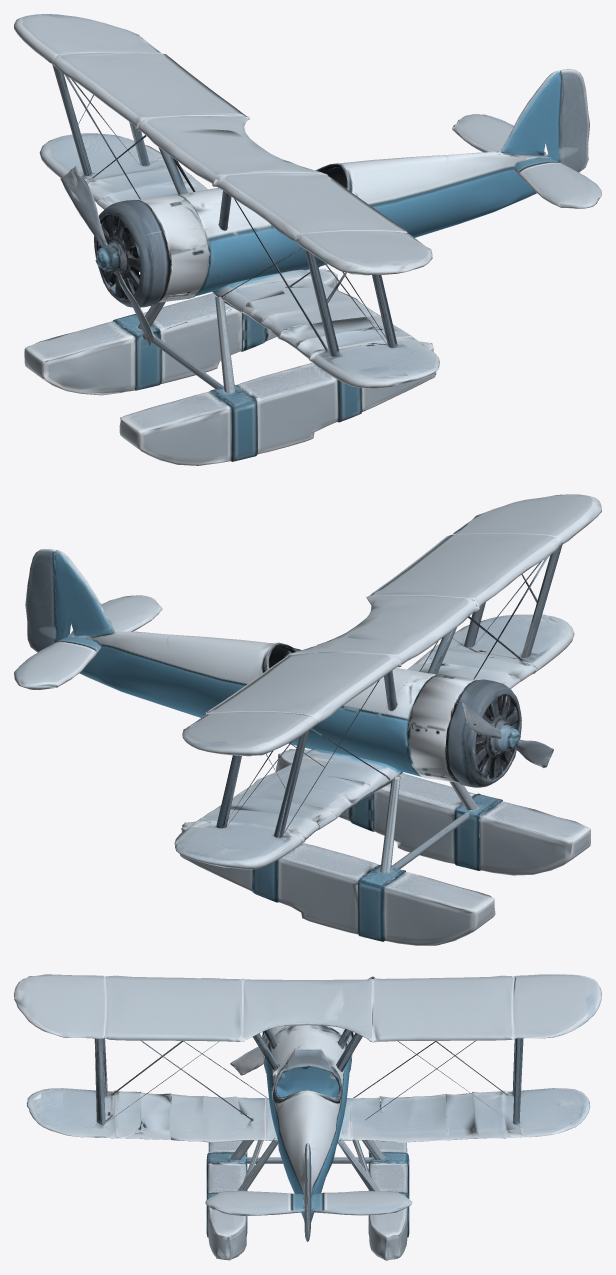
Rendered from meshy-vehicle-biplane.glb.
3 views of the same model, one above another, from view 1: azimuth 30°, elevation 25°; view 2: azimuth 150°, elevation 25°; view 3: azimuth 270°, elevation 25° (orthographic). The views are drawn at different scales.
Bounding box in the file's own units: 0.7939 × 0.4082 × 0.9497.
1 material, 1 textured.
